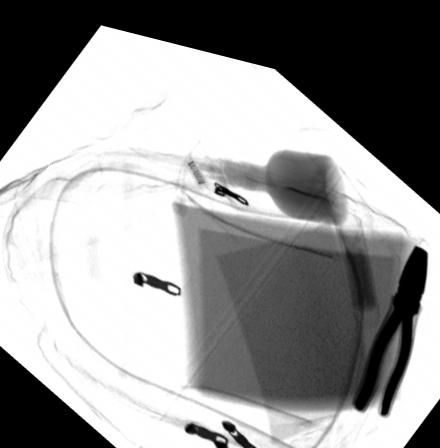Pliers: (352, 222, 429, 399)
